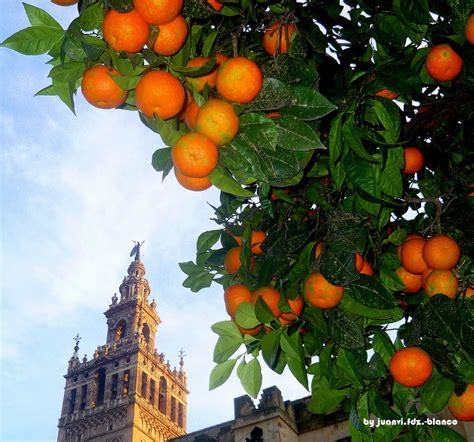orange: (131, 69, 185, 122), (214, 56, 266, 107), (79, 62, 126, 111), (166, 135, 222, 176), (99, 9, 152, 52), (418, 41, 464, 88), (388, 345, 434, 390), (195, 101, 241, 145), (303, 268, 343, 313), (423, 234, 461, 268)
